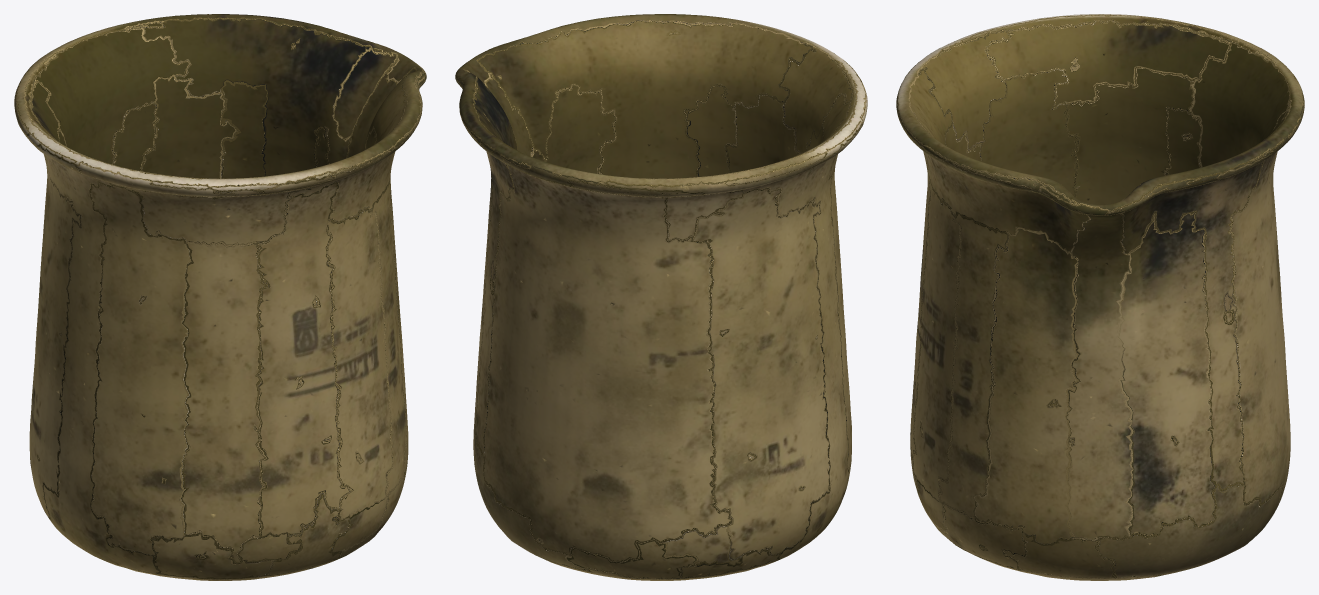
3 views of the same model, side by side, from view 1: azimuth 30°, elevation 25°; view 2: azimuth 150°, elevation 25°; view 3: azimuth 270°, elevation 25° (orthographic).
Bounding box in the file's own units: 1.37 × 1.49 × 1.29.
Materials: 1 (1 with a texture image).
